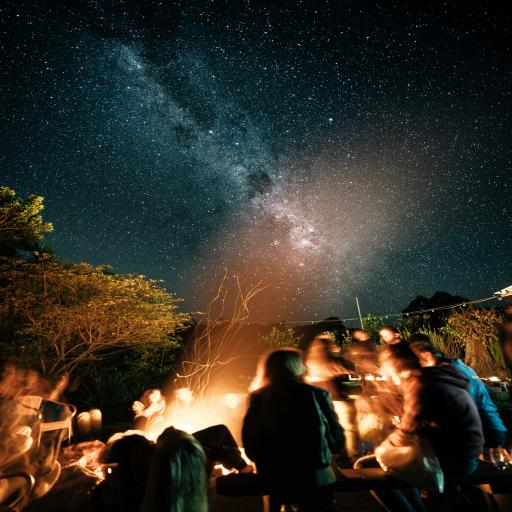campfire: (132, 380, 241, 430)
